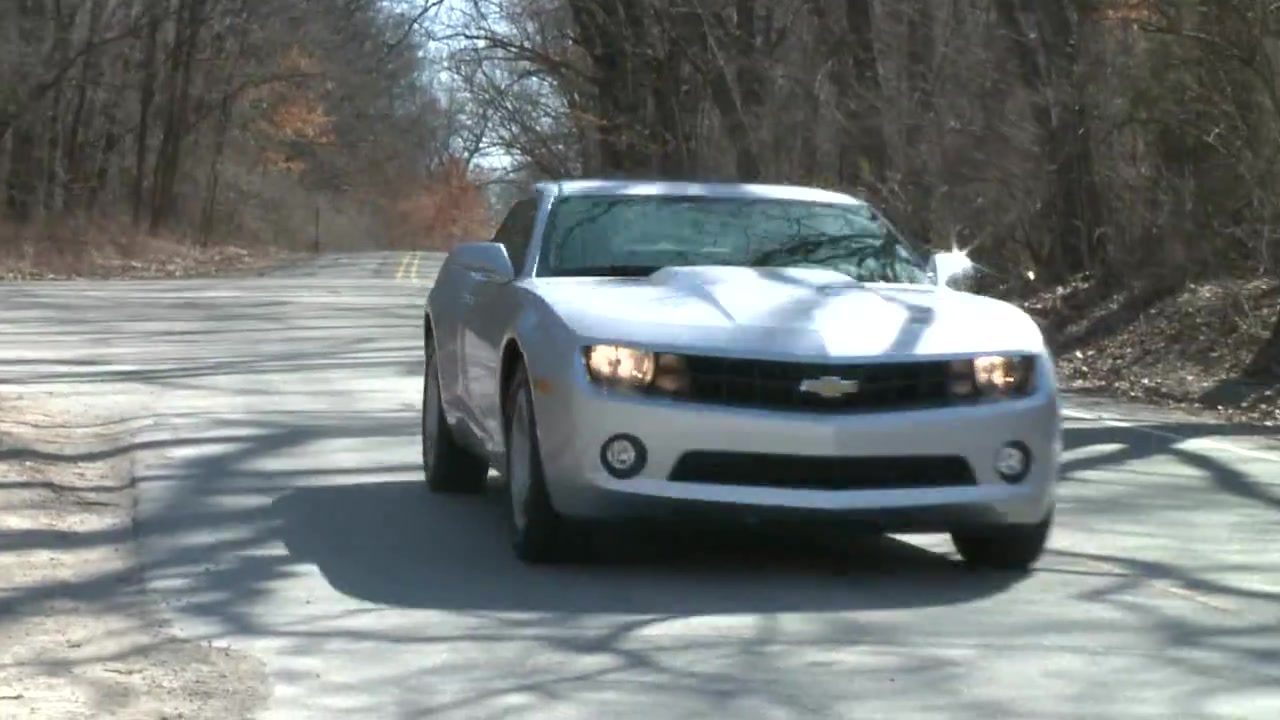car: (419, 167, 1063, 588)
